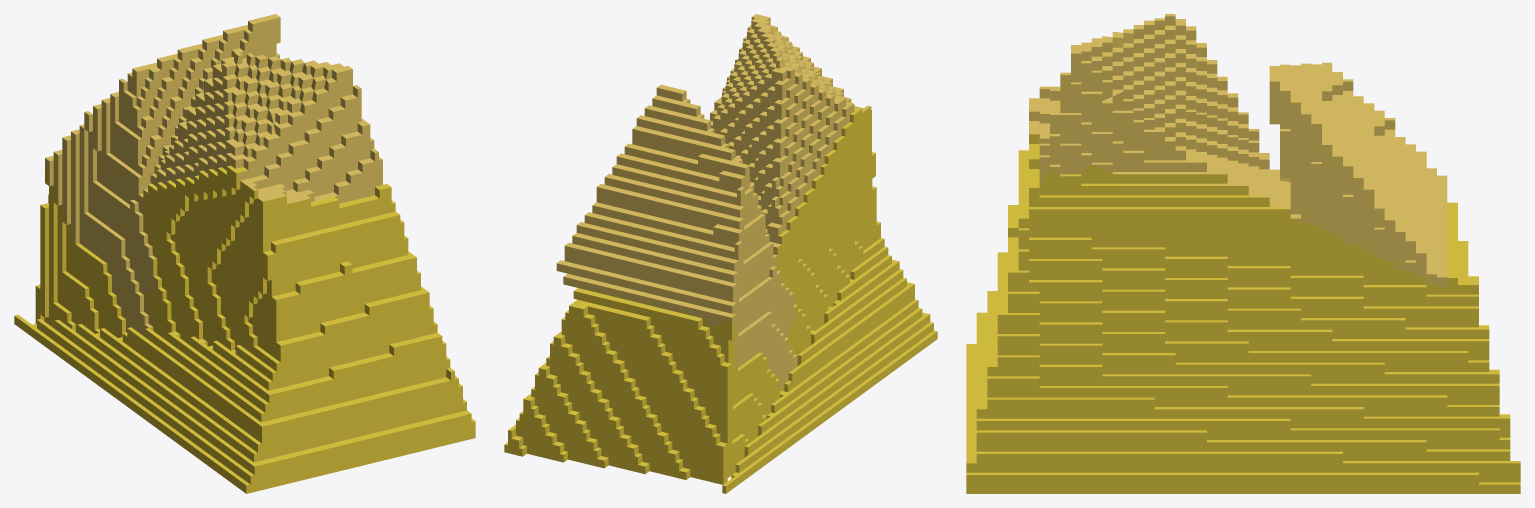
Rendered from Ruins1.fbx.
3 renders of one model, left to right at view 1: azimuth 30°, elevation 25°; view 2: azimuth 150°, elevation 25°; view 3: azimuth 270°, elevation 25°, orthographic. The views are drawn at different scales.
Visible parts, largest first — view 1: Ruins_1; view 2: Ruins_1; view 3: Ruins_1.
Boxes of the visible parts, x1,y1,x2,y2 form: Ruins_1: (14, 14, 475, 493); Ruins_1: (504, 14, 937, 493); Ruins_1: (966, 14, 1520, 493).
Size of the model in its own units: 2.33 by 4.34 by 3.44.
